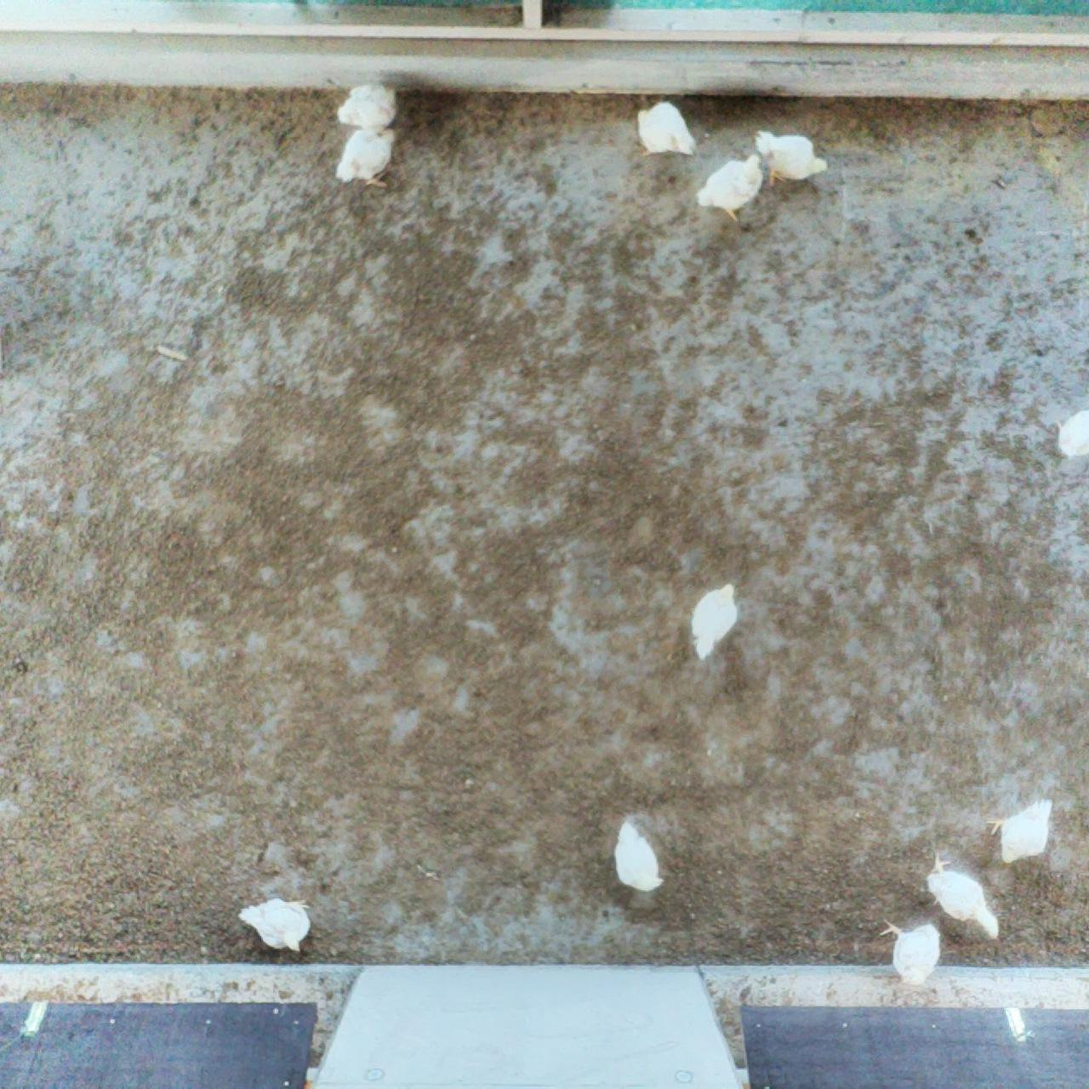chicken: (924, 856, 1003, 942), (696, 151, 768, 224), (878, 915, 945, 990), (234, 894, 314, 955), (333, 123, 402, 193), (753, 128, 829, 188), (992, 794, 1055, 864), (690, 576, 743, 659), (614, 820, 668, 892), (636, 97, 698, 159), (334, 77, 402, 131), (1052, 404, 1089, 459)
